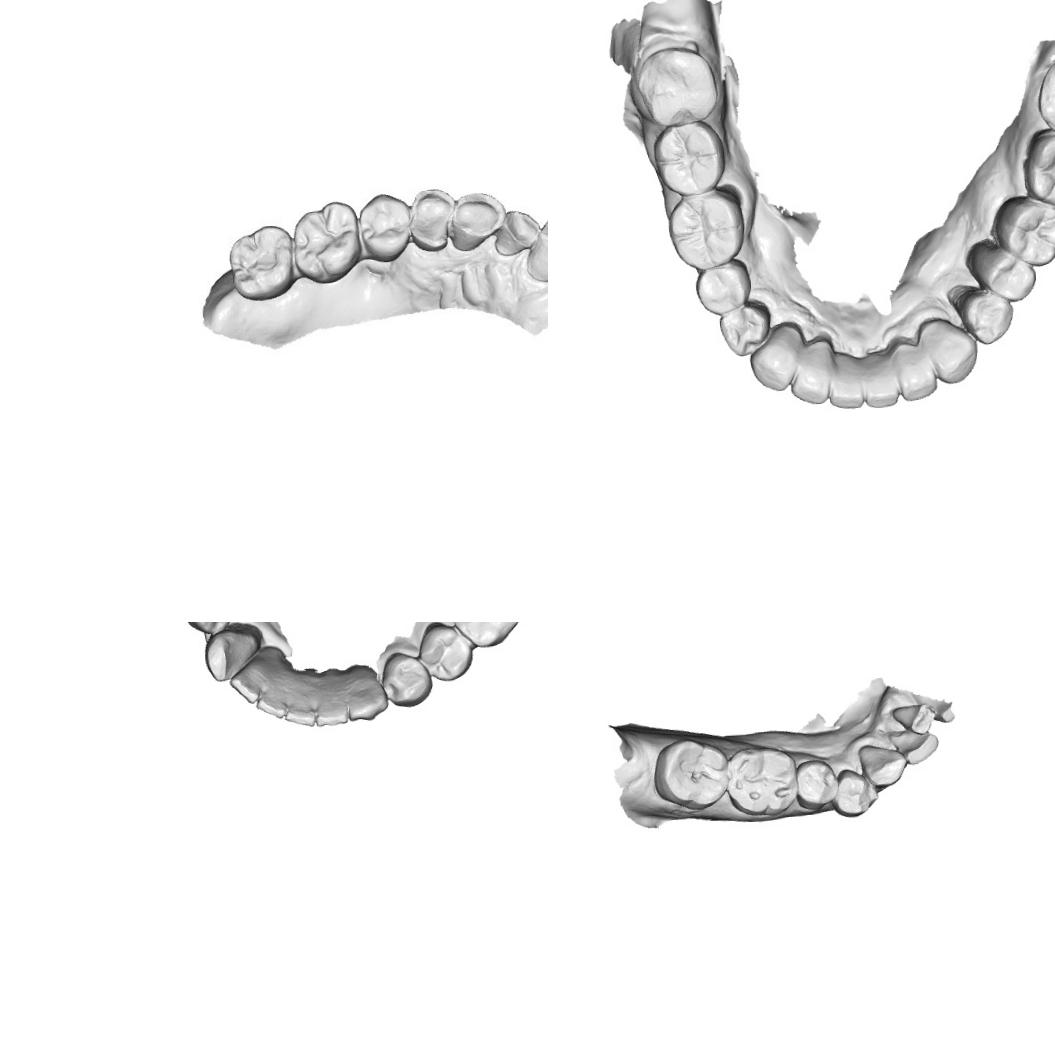canine: (919, 316, 979, 384), (746, 323, 804, 393), (447, 186, 506, 252), (201, 626, 262, 682), (855, 740, 909, 790), (345, 662, 389, 722)
incisor: (786, 338, 834, 406), (488, 204, 542, 260), (896, 341, 938, 402), (887, 724, 941, 766), (861, 350, 899, 408), (311, 668, 348, 727), (826, 353, 864, 410), (888, 700, 936, 738), (228, 660, 266, 706), (527, 212, 548, 279), (282, 690, 316, 729), (254, 685, 287, 720)
molar: (286, 194, 368, 292), (634, 43, 720, 128), (664, 188, 746, 272), (650, 733, 731, 815), (650, 118, 727, 198), (725, 741, 802, 819), (224, 225, 296, 306), (992, 192, 1055, 269), (1021, 125, 1055, 210), (447, 622, 526, 649), (1035, 52, 1055, 138)
premolar: (967, 238, 1038, 304), (355, 189, 415, 267), (949, 280, 1014, 346), (404, 182, 459, 254), (414, 622, 476, 682), (693, 256, 752, 317), (717, 302, 773, 358), (380, 649, 433, 708), (830, 764, 878, 818), (792, 756, 838, 812), (181, 622, 238, 636)
